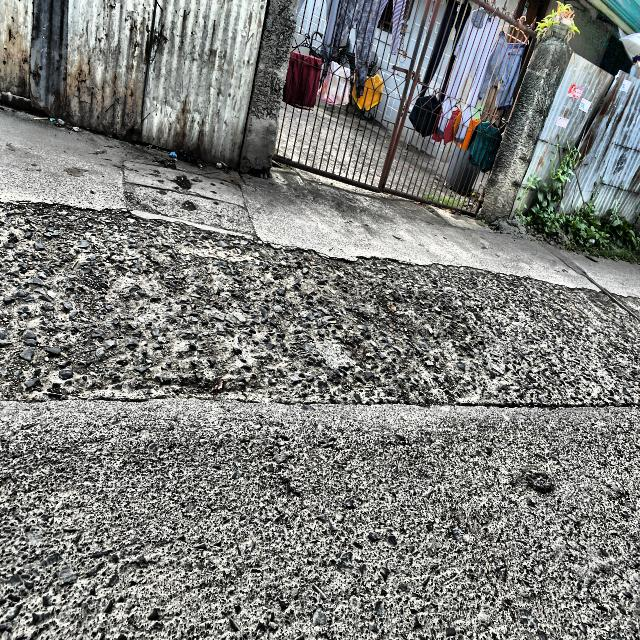major_scaling: (0, 203, 640, 407)
